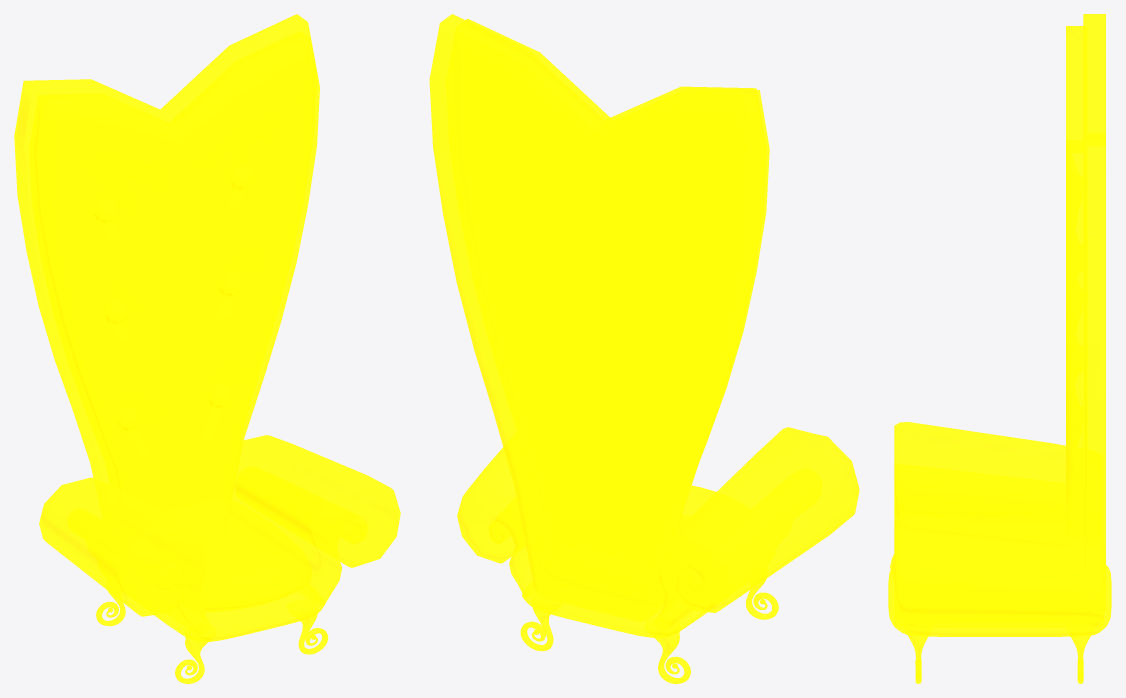
Rendered from yellow_heart_chair.fbx.
3 renders of one model, left to right at view 1: azimuth 30°, elevation 25°; view 2: azimuth 150°, elevation 25°; view 3: azimuth 270°, elevation 25°, orthographic. The views are drawn at different scales.
Visible parts, largest first — view 1: chair; view 2: chair; view 3: chair.
Boxes of the visible parts, x1=… form: chair: x1=14, y1=14, x2=400, y2=683; chair: x1=429, y1=14, x2=859, y2=683; chair: x1=888, y1=14, x2=1111, y2=683.
Bounding box in the file's own units: 15.87 × 28.79 × 10.23.
